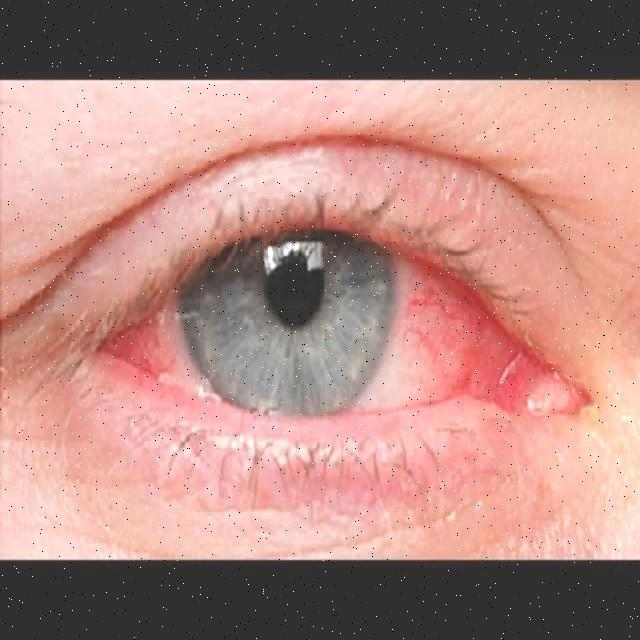Conjunctivitis: (102, 254, 592, 426)
